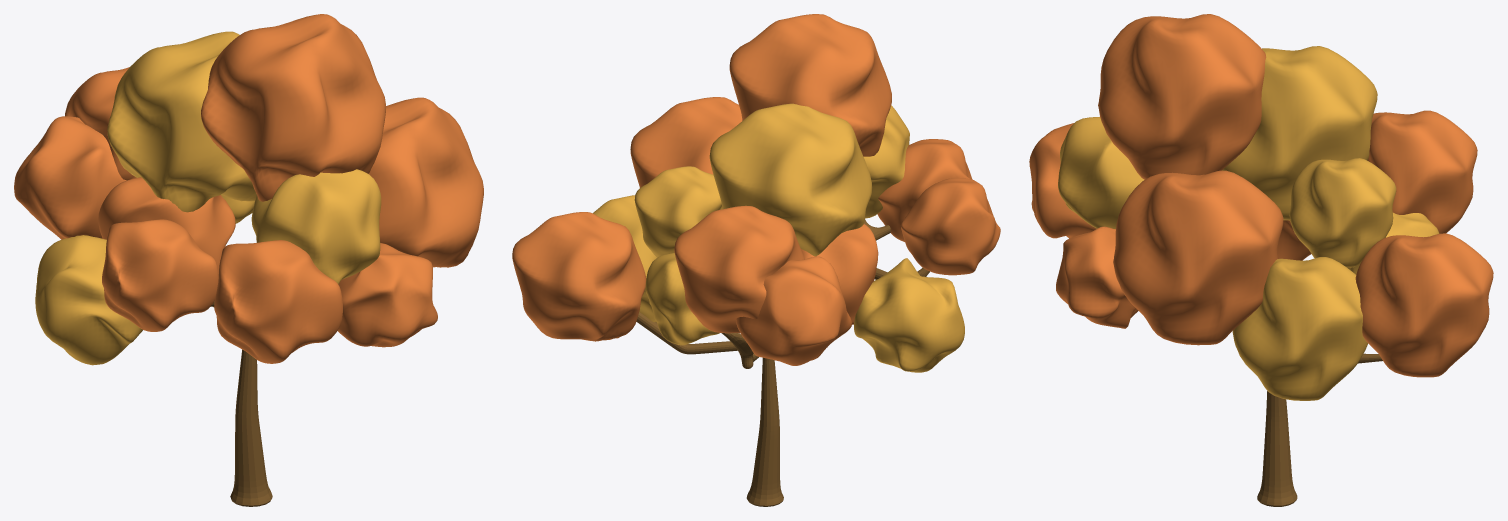
The model's file is Autumn tree 2.fbx.
The picture shows the model from 3 angles, left to right: view 1: azimuth 30°, elevation 25°; view 2: azimuth 150°, elevation 25°; view 3: azimuth 270°, elevation 25°; orthographic projection. The views are drawn at different scales.
Visible parts, largest first — view 1: Roundcube.013, Roundcube.012, Roundcube.010, Roundcube.005, Roundcube.001, Roundcube.003, Roundcube.002, Roundcube.006, Roundcube.008, Roundcube.007, Plane, Roundcube.004; view 2: Roundcube.012, Roundcube.013, Roundcube.009, Roundcube.004, Roundcube.006, Roundcube.002, Roundcube.003, Roundcube.010, Plane, Roundcube.014, Roundcube.005, Roundcube (+3 smaller); view 3: Roundcube.010, Roundcube.013, Roundcube.009, Roundcube.012, Roundcube.011, Roundcube.004, Roundcube.014, Roundcube.001, Roundcube.008, Roundcube.005, Plane, Roundcube (+1 smaller).
Boxes of the visible parts, x1=… form: Roundcube.013: x1=201, y1=14, x2=385, y2=201; Roundcube.012: x1=107, y1=31, x2=256, y2=212; Roundcube.010: x1=368, y1=97, x2=483, y2=267; Roundcube.005: x1=214, y1=240, x2=342, y2=363; Roundcube.001: x1=251, y1=169, x2=381, y2=284; Roundcube.003: x1=102, y1=219, x2=218, y2=331; Roundcube.002: x1=14, y1=116, x2=126, y2=239; Roundcube.006: x1=35, y1=235, x2=142, y2=365; Roundcube.008: x1=337, y1=243, x2=437, y2=347; Roundcube.007: x1=98, y1=177, x2=235, y2=273; Plane: x1=210, y1=301, x2=272, y2=506; Roundcube.004: x1=65, y1=67, x2=134, y2=180; Roundcube.012: x1=709, y1=103, x2=872, y2=256; Roundcube.013: x1=729, y1=14, x2=891, y2=156; Roundcube.009: x1=512, y1=212, x2=646, y2=341; Roundcube.004: x1=674, y1=205, x2=804, y2=333; Roundcube.006: x1=854, y1=258, x2=964, y2=372; Roundcube.002: x1=736, y1=256, x2=851, y2=365; Roundcube.003: x1=901, y1=178, x2=1000, y2=275; Roundcube.010: x1=630, y1=97, x2=742, y2=187; Plane: x1=636, y1=219, x2=929, y2=506; Roundcube.014: x1=634, y1=166, x2=722, y2=257; Roundcube.005: x1=877, y1=139, x2=972, y2=241; Roundcube: x1=645, y1=253, x2=719, y2=345; Roundcube.010: x1=1113, y1=170, x2=1283, y2=345; Roundcube.013: x1=1098, y1=14, x2=1266, y2=179; Roundcube.009: x1=1355, y1=233, x2=1493, y2=377; Roundcube.012: x1=1222, y1=46, x2=1377, y2=220; Roundcube.011: x1=1232, y1=257, x2=1367, y2=400; Roundcube.004: x1=1367, y1=110, x2=1477, y2=233; Roundcube.014: x1=1289, y1=158, x2=1396, y2=267; Roundcube.001: x1=1058, y1=117, x2=1144, y2=228; Roundcube.008: x1=1056, y1=226, x2=1138, y2=328; Roundcube.005: x1=1029, y1=123, x2=1096, y2=238; Plane: x1=1257, y1=353, x2=1382, y2=506; Roundcube: x1=1347, y1=212, x2=1439, y2=274.
Size of the model in its own units: 1114 by 1305 by 1145.
